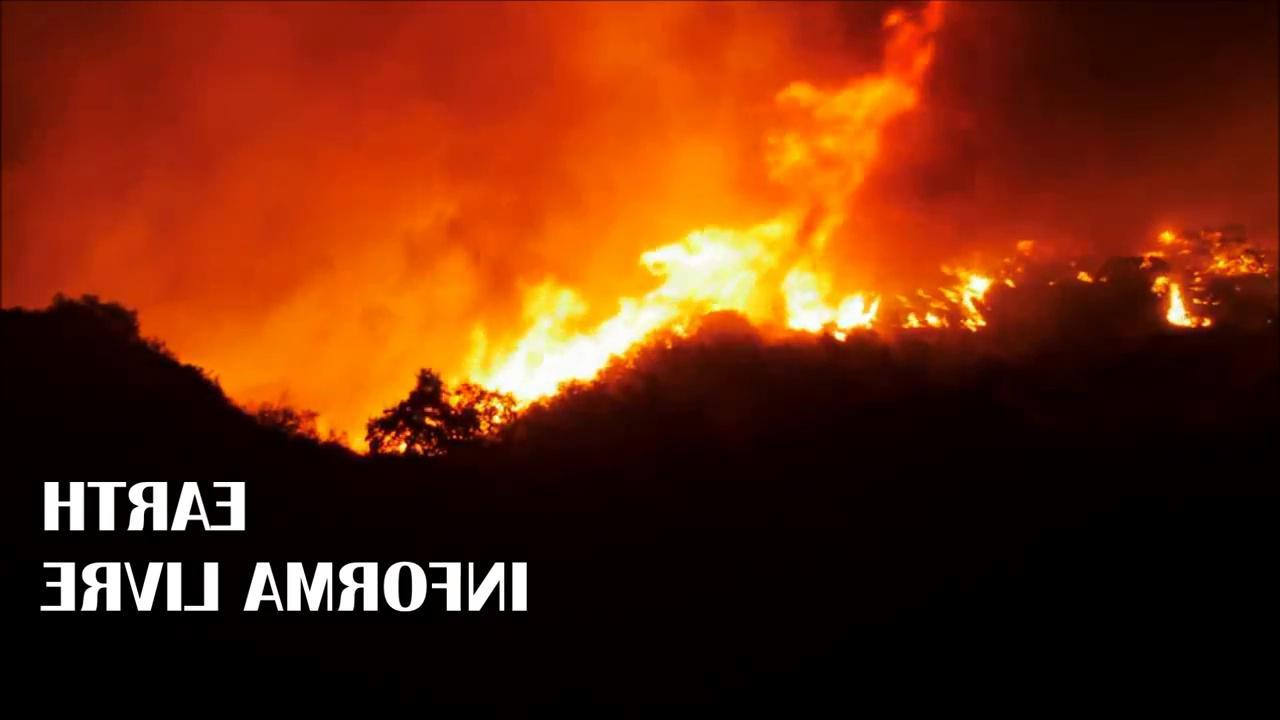Fire: (443, 203, 897, 426), (1074, 230, 1277, 333), (906, 247, 1036, 334)
